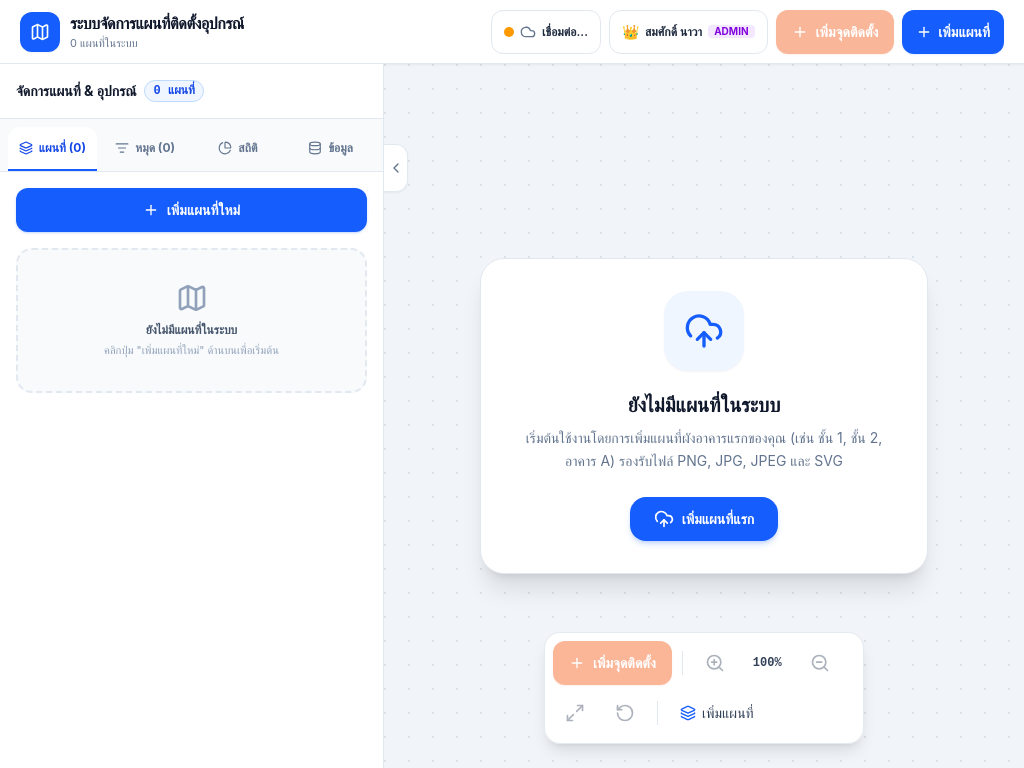
Scenario: Indoor Map Manager Component Workflows (Multi-Map) › opens map upload modal and allows naming the map
The width and height of the screenshot is (1024, 768).
Check: the text "ยังไม่มีแผนที่ในระบบ" is shown, box [146,322,237,337]
Click the button "เพิ่มแผนที่แรก" at [704, 519], box [630,497,778,541]
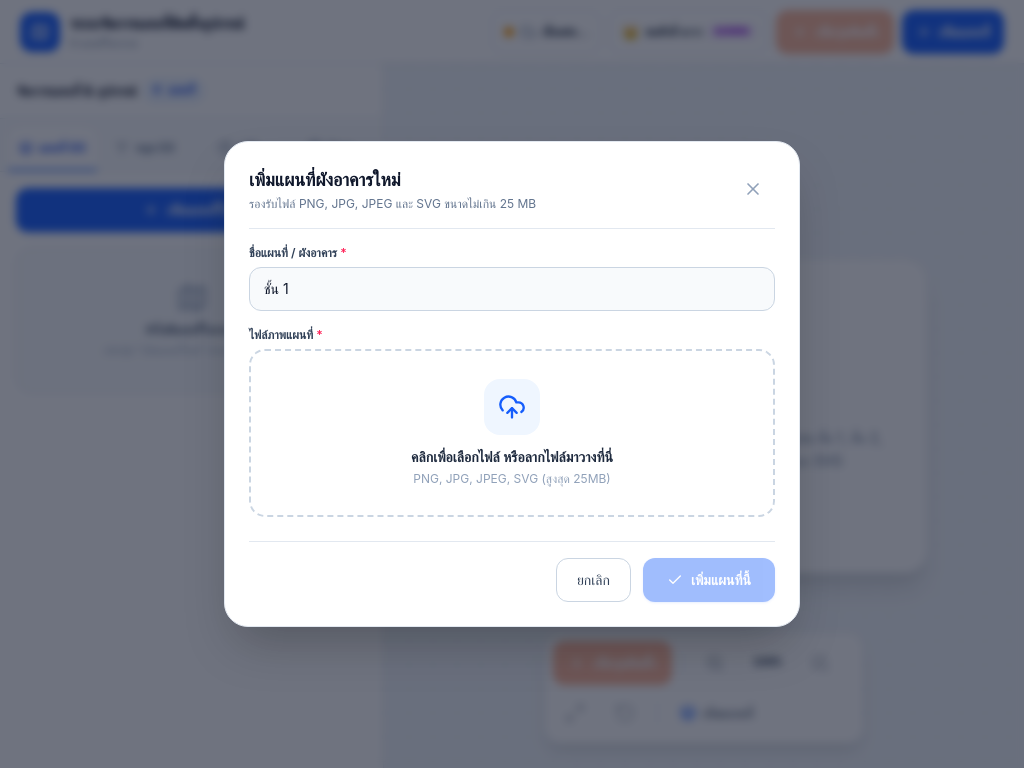
Check: the heading "เพิ่มแผนที่ผังอาคารใหม่" is shown, box [249,169,400,190]
Check: the field with placeholder "เช่น ชั้น 1, ชั้น 2, อาคาร A, ลานจอดรถ" is shown, box [249,267,775,311]
Click the button "ยกเลิก" at [593, 580], box [556,558,631,602]
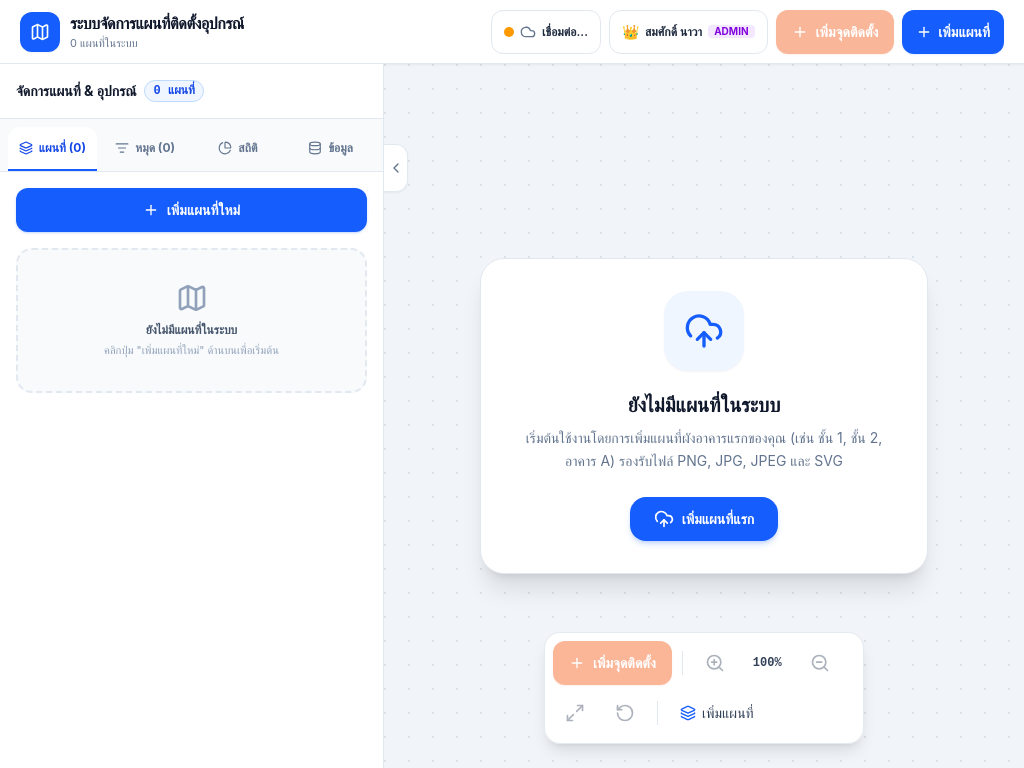
Check: the heading "เพิ่มแผนที่ผังอาคารใหม่" is gone
